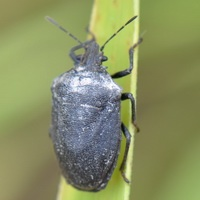insect: (46, 16, 140, 191)
